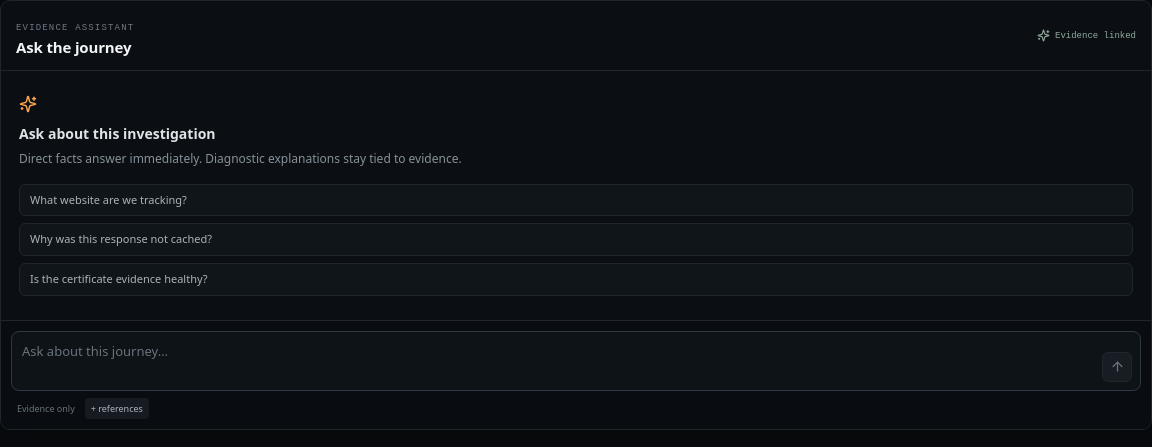
AI investigation panel › lets keyboard users choose evidence-only mode
Click the button "Evidence only": [46, 408] box [11,398,81,419]
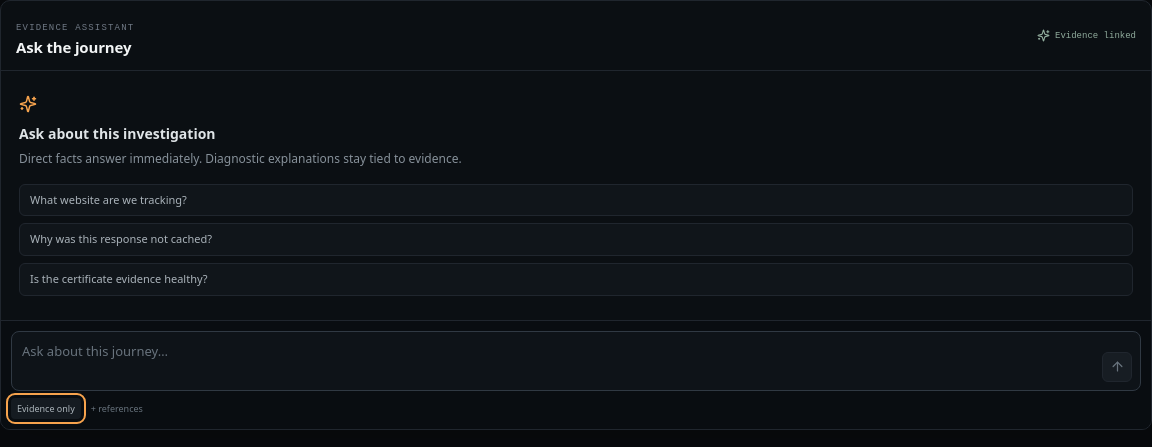
In the text box named "Ask about this investigation": [558, 361] box [20,340,1095,382], type "Explain this evidence"
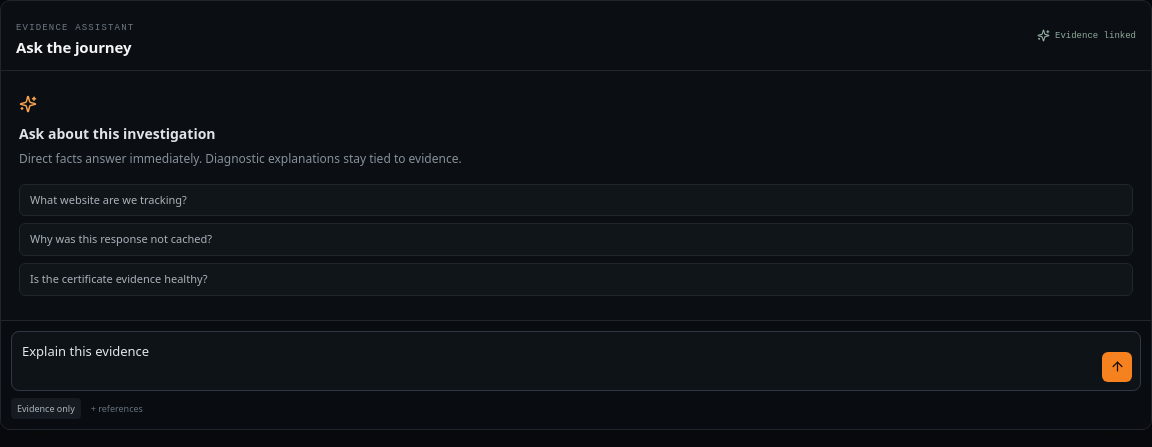
Click the button named "Submit question": [1117, 367] box [1102,352,1132,382]
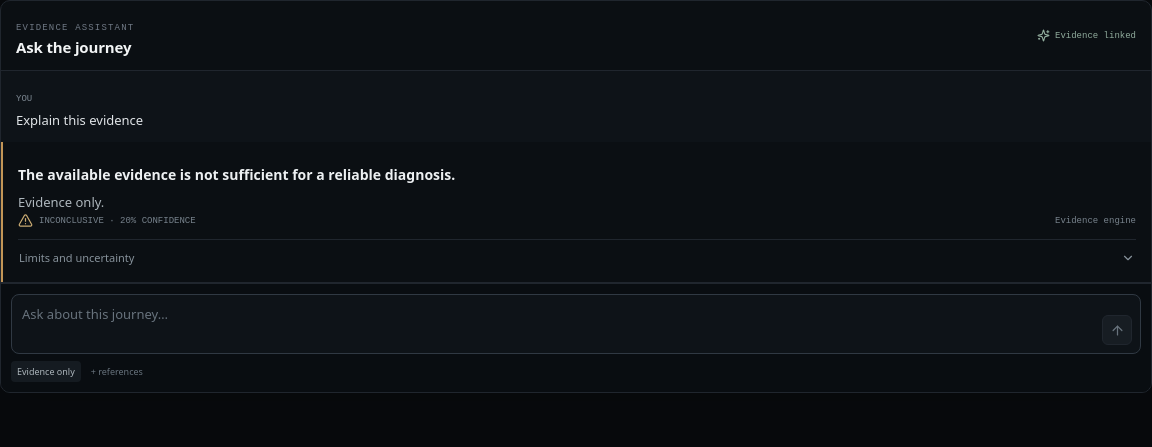
Expected: the text "Evidence only." is shown, [18,193,104,211]
